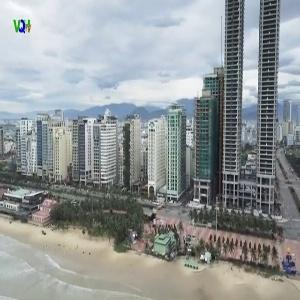drone: (128, 194, 177, 243)
